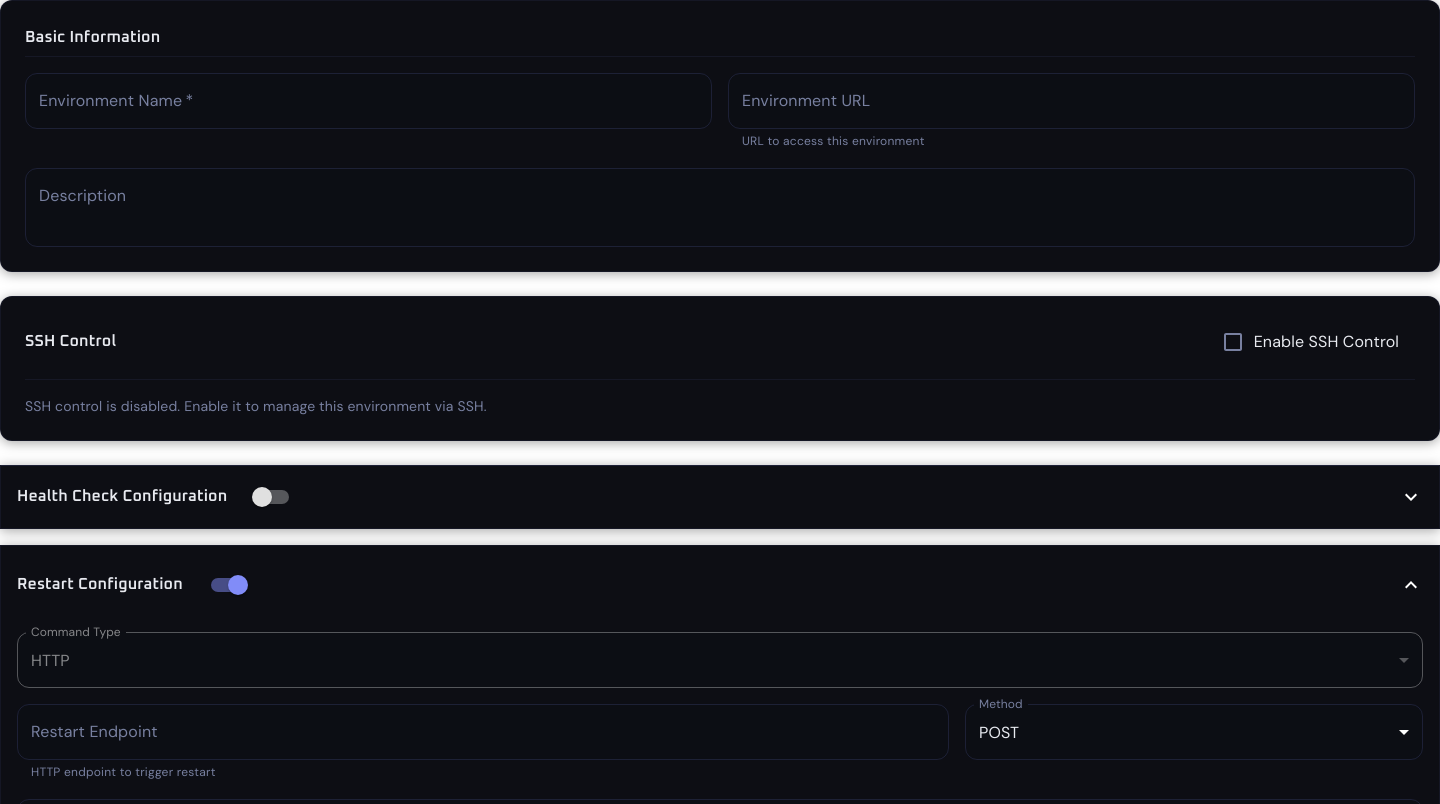
EnvironmentForm › should handle SSH authentication type changes
Enable SSH control
Click the 1st checkbox labelled "Enable SSH Control". click: (1310, 342)
box: [1221,330,1399,354]
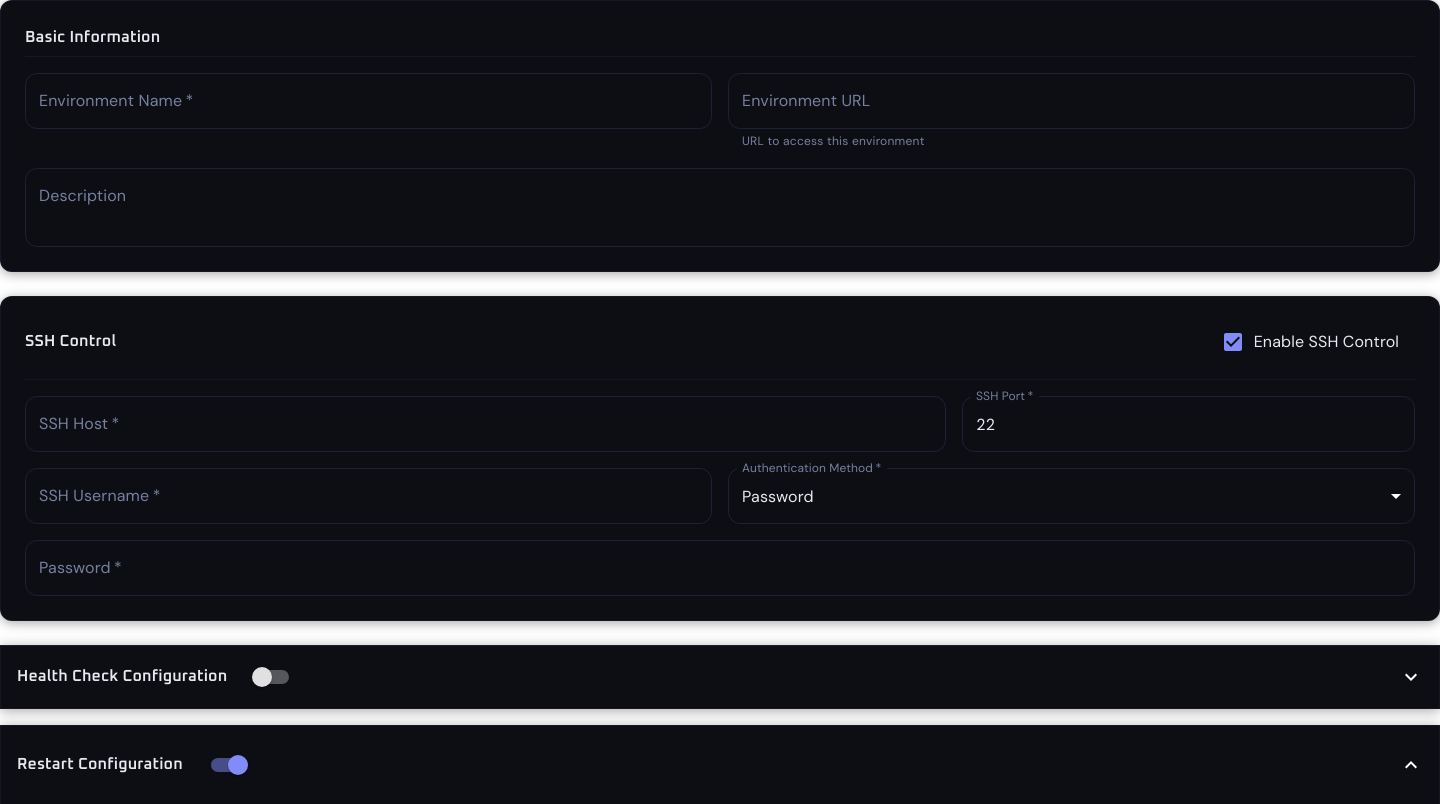
Expected: the dropdown named "Authentication Method" is shown
Change auth type to key - first click to open the select
Click the dropdown named "Authentication Method". click: (778, 496)
box: [742,486,814,507]
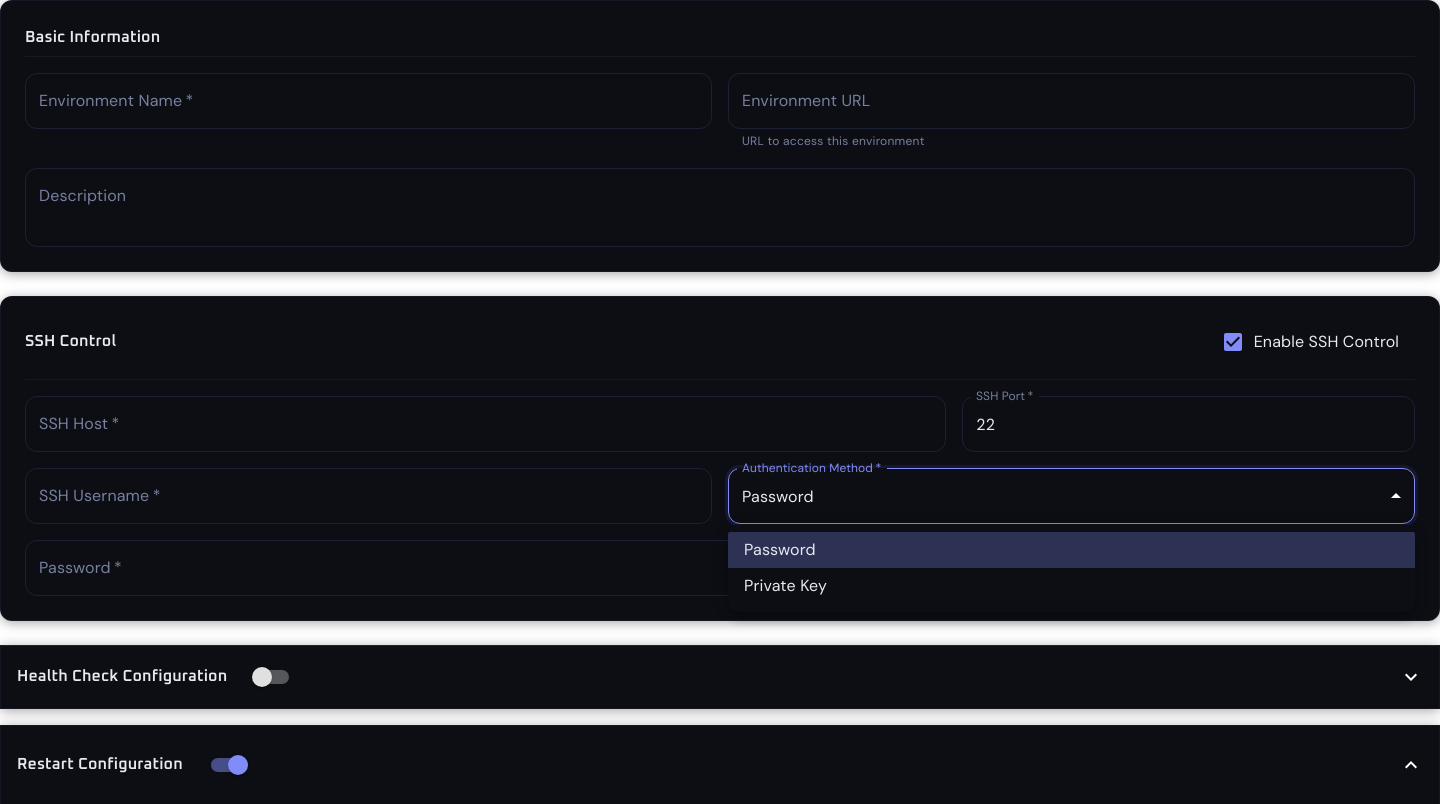
Wait for menu to appear and click the option
Click the option "Private Key". click: (786, 586)
box: [744,575,827,596]
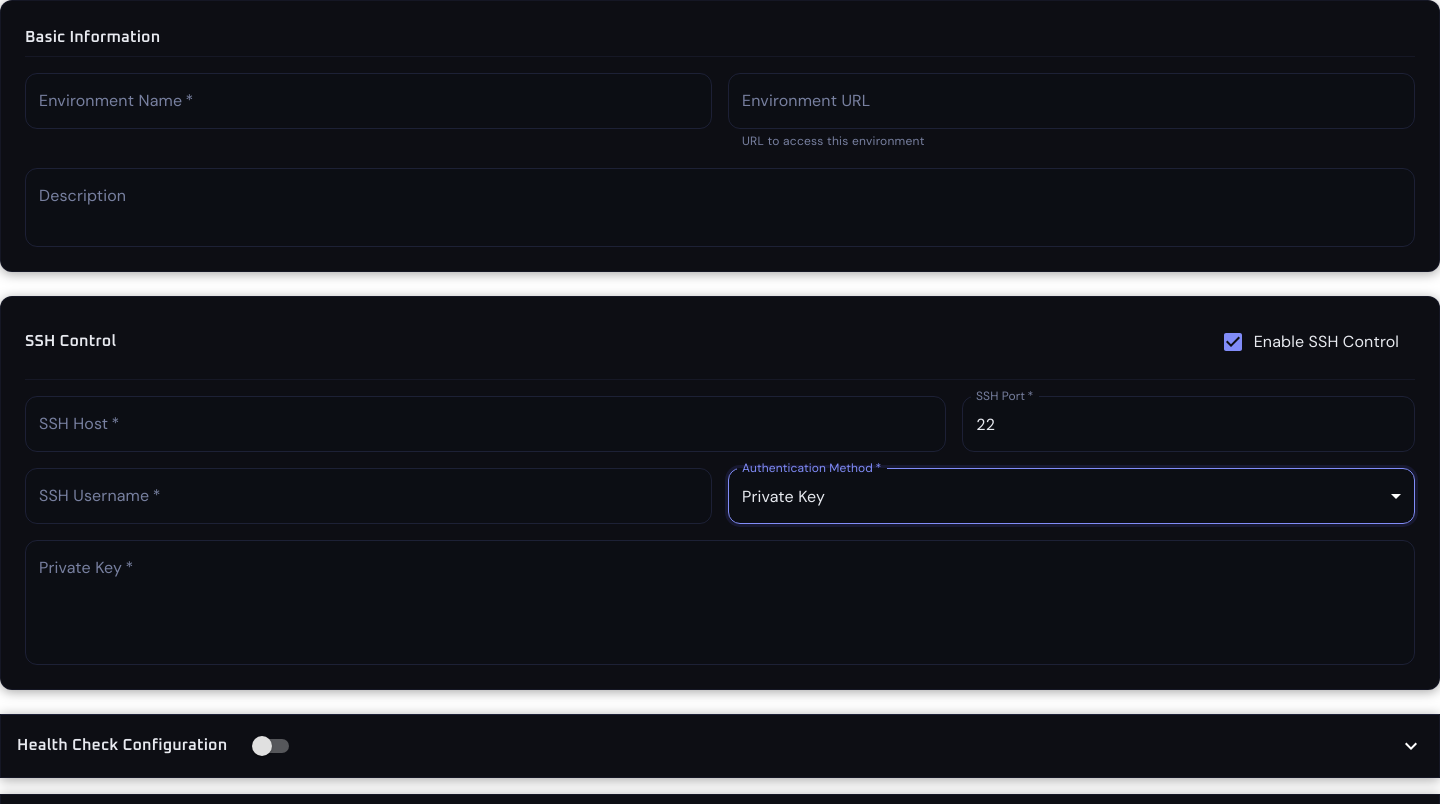
Expected: the text box with placeholder "Paste your private key here..." is shown, [39,557,1401,649]
